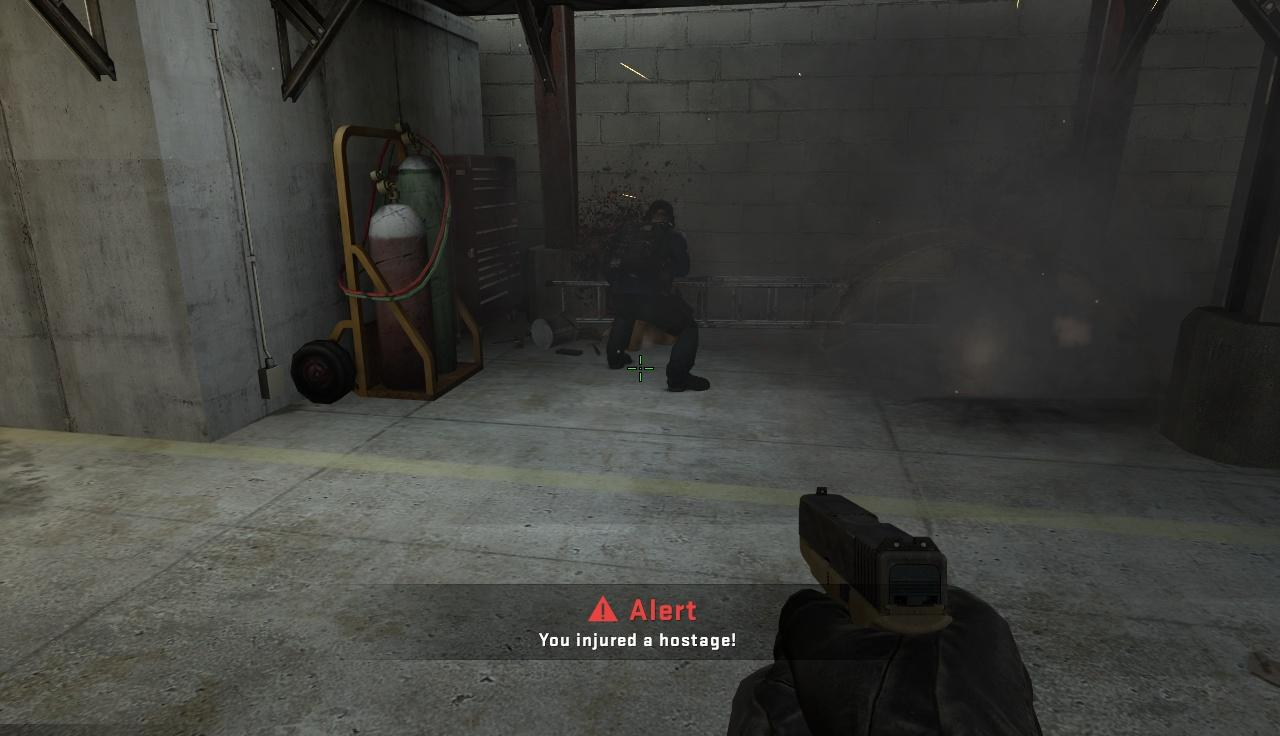ct: (611, 193, 697, 385)
cthead: (647, 200, 674, 228)
pistol: (787, 488, 1037, 736)
